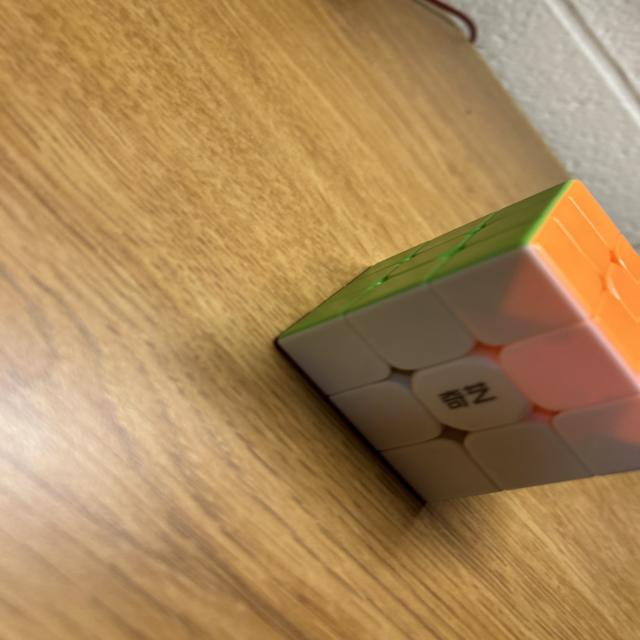Rubiks Cube: (277, 177, 640, 503)
